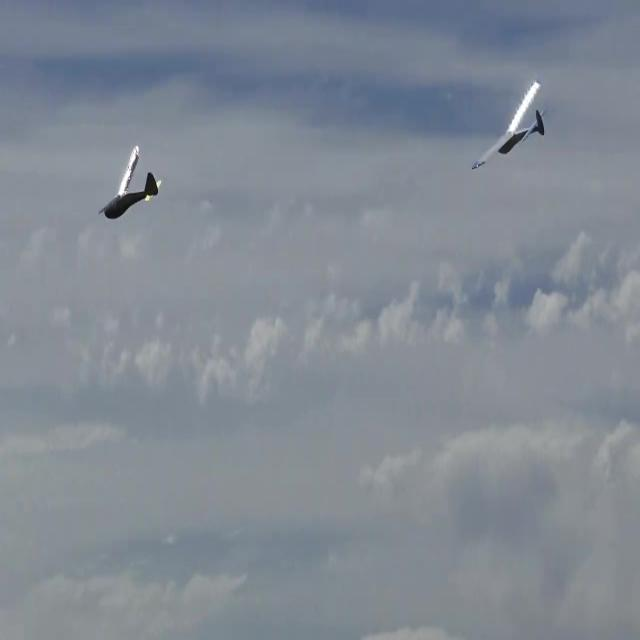iha: (507, 48, 511, 74), (129, 180, 130, 184)
